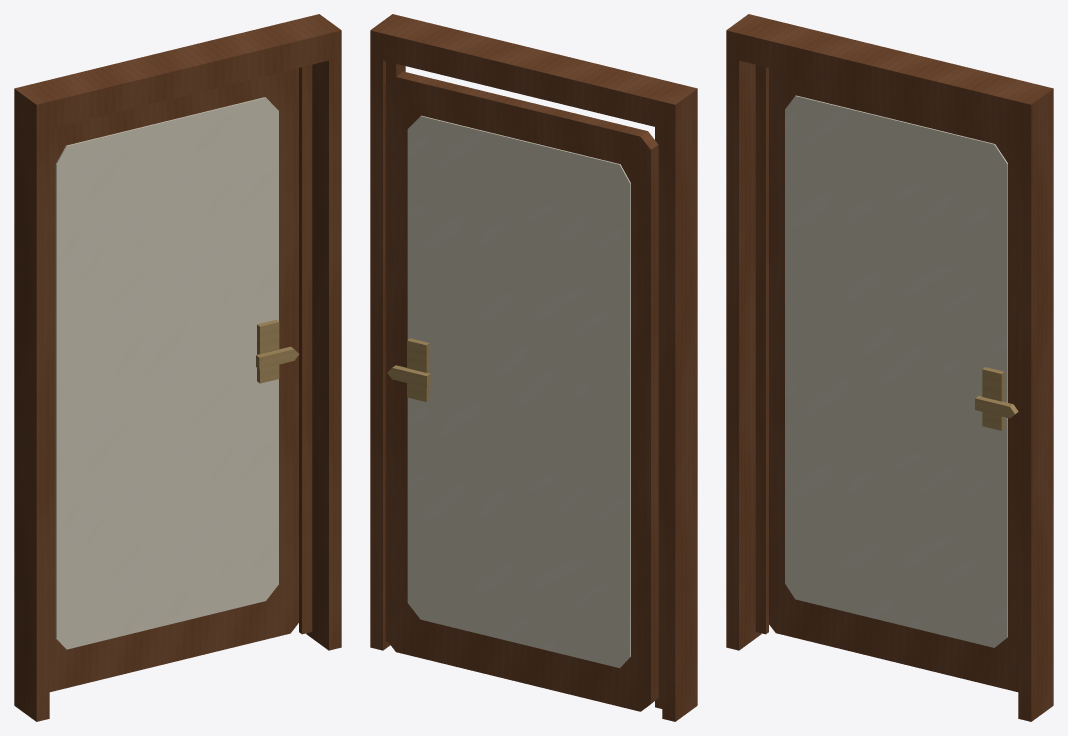
Rendered from AST-DOR-001.glb.
3 renders of one model, left to right at view 1: azimuth 30°, elevation 25°; view 2: azimuth 150°, elevation 25°; view 3: azimuth 330°, elevation 25°, orthographic.
Parts seen in each view (by area): view 1: BATH_Leaf_ivory_enamel, BATH_Static_warm_walnut, BATH_Leaf_warm_walnut, BATH_Leaf_champagne_metal; view 2: BATH_Leaf_ivory_enamel, BATH_Static_warm_walnut, BATH_Leaf_warm_walnut, BATH_Leaf_champagne_metal; view 3: BATH_Leaf_ivory_enamel, BATH_Static_warm_walnut, BATH_Leaf_warm_walnut, BATH_Leaf_champagne_metal.
Part boxes in pixels (x1,y1,x2,y2): BATH_Leaf_ivory_enamel: (55,97,278,649); BATH_Static_warm_walnut: (14,14,341,721); BATH_Leaf_warm_walnut: (49,68,298,691); BATH_Leaf_champagne_metal: (256,320,299,383); BATH_Leaf_ivory_enamel: (407,115,630,668); BATH_Static_warm_walnut: (370,14,697,721); BATH_Leaf_warm_walnut: (385,71,658,711); BATH_Leaf_champagne_metal: (387,338,430,401); BATH_Leaf_ivory_enamel: (785,95,1007,647); BATH_Static_warm_walnut: (726,14,1053,721); BATH_Leaf_warm_walnut: (769,68,1018,691); BATH_Leaf_champagne_metal: (975,367,1018,430).
Bounding box in the file's own units: 1.18 × 2.28 × 0.233.
Materials: 3 (3 with a texture image).
